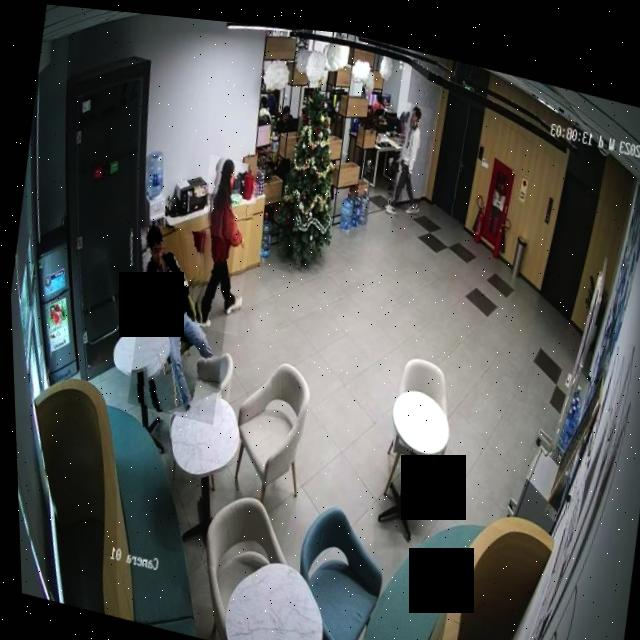person: (119, 216, 240, 423), (182, 149, 262, 334), (382, 92, 434, 211)
